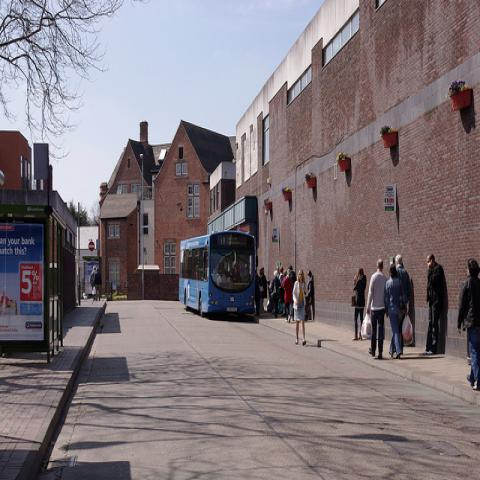bus: (178, 234, 256, 315)
